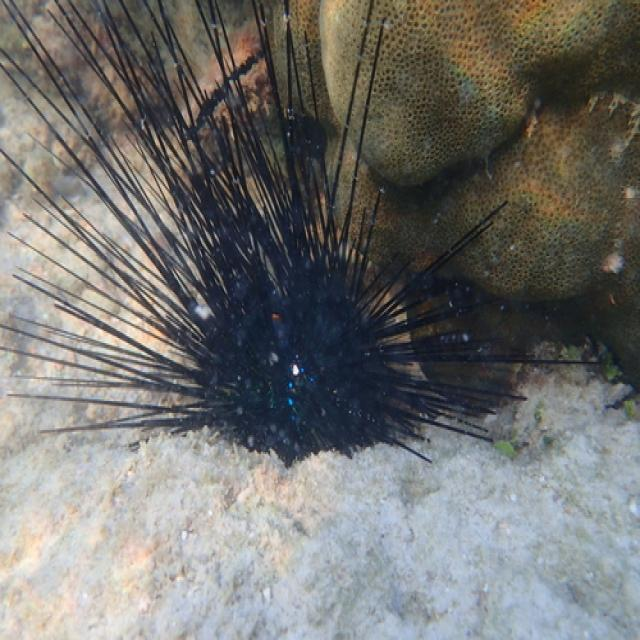Urchin: (5, 1, 603, 472)
